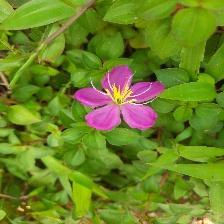malabar melastome: (73, 63, 164, 134)
